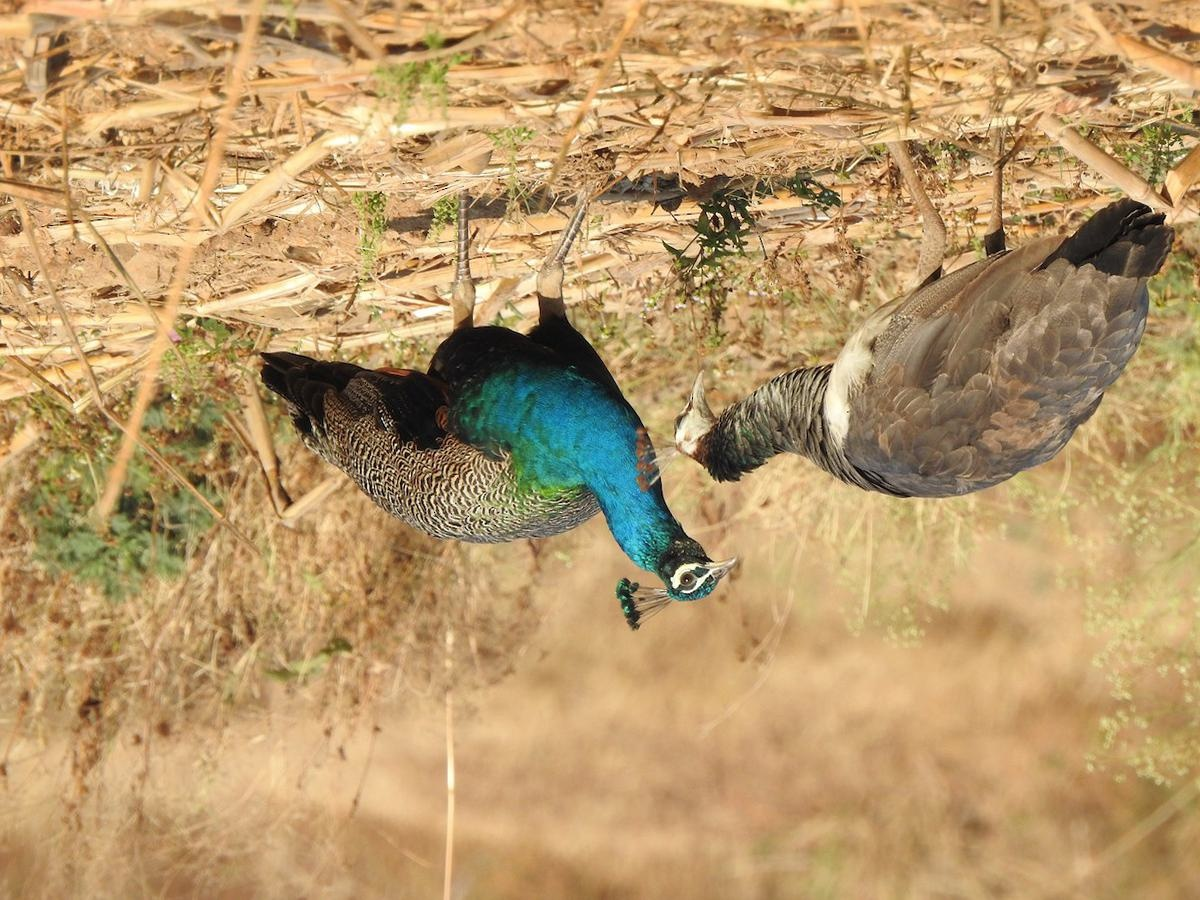peacock: (223, 261, 731, 637)
